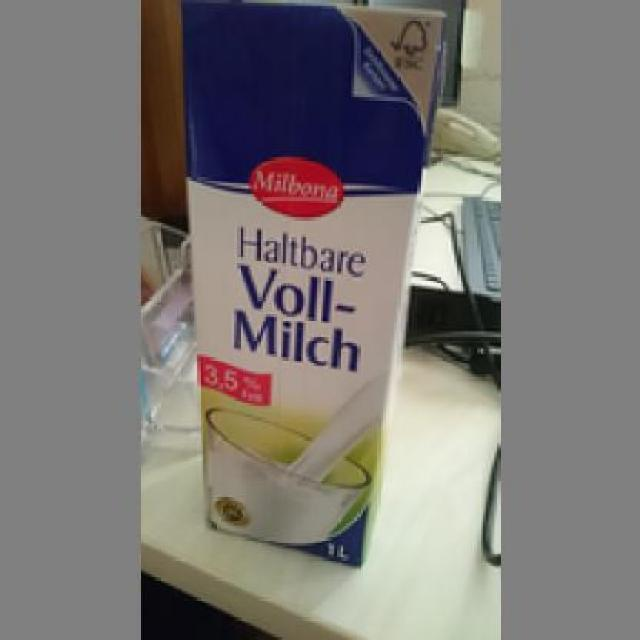Milk: (168, 0, 452, 586)
